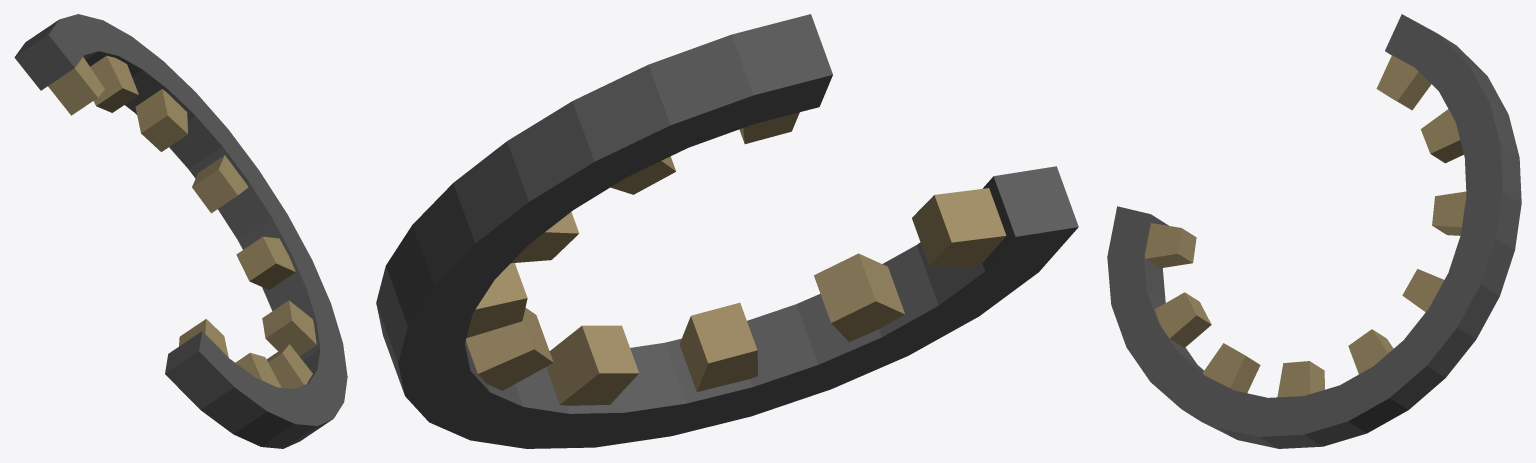
Rendered from 3_3art.fbx.
3 renders of one model, left to right at view 1: azimuth 30°, elevation 25°; view 2: azimuth 150°, elevation 25°; view 3: azimuth 270°, elevation 25°, orthographic. The views are drawn at different scales.
Visible parts, largest first — view 1: Cube.001; view 2: Cube.001; view 3: Cube.001.
Boxes of the visible parts, left/top/right/bottom form: Cube.001: left=14, top=14, right=347, bottom=448; Cube.001: left=376, top=14, right=1078, bottom=448; Cube.001: left=1107, top=14, right=1521, bottom=448.
Size of the model in its own units: 188 by 234 by 254.
